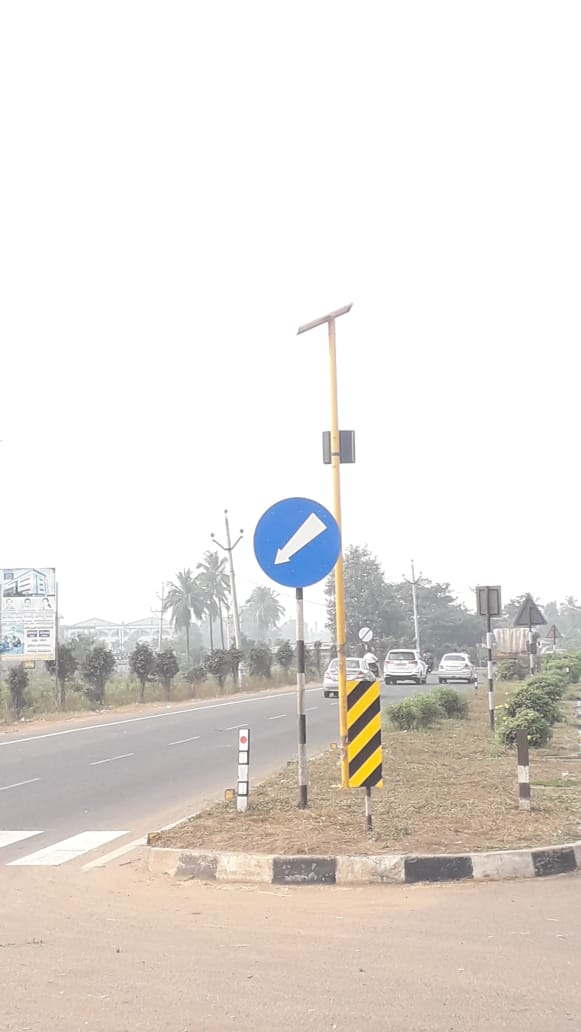go left: (243, 480, 357, 604)
